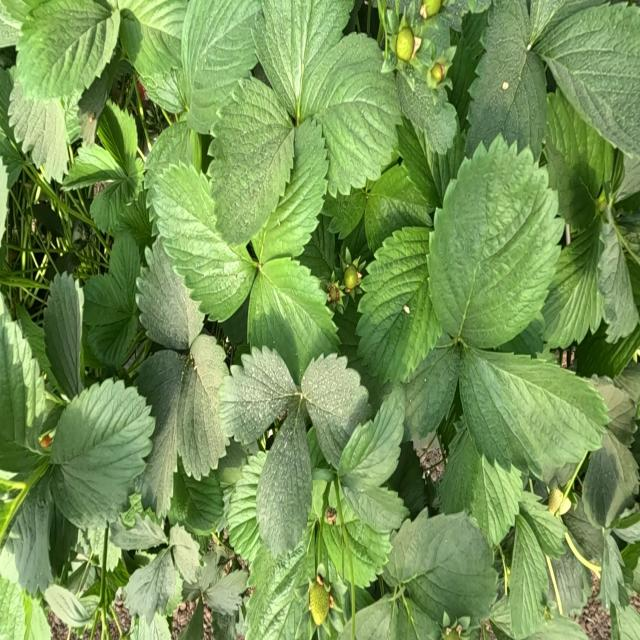Leaves: (431, 141, 563, 349), (460, 351, 608, 481), (149, 164, 255, 321), (535, 2, 639, 154), (52, 379, 153, 529), (209, 80, 294, 245), (315, 35, 402, 193), (358, 227, 440, 385), (466, 3, 547, 158), (388, 512, 497, 623), (545, 90, 626, 231), (248, 258, 339, 383), (256, 1, 351, 117), (16, 0, 119, 102), (181, 1, 260, 132), (254, 123, 327, 262), (542, 213, 608, 346), (326, 481, 407, 587), (257, 408, 311, 557), (302, 355, 370, 470), (219, 346, 298, 443), (246, 532, 315, 638), (138, 357, 183, 519), (123, 1, 188, 113), (137, 240, 203, 350), (178, 337, 228, 478), (338, 388, 405, 490), (0, 295, 43, 448), (403, 331, 460, 446), (333, 295, 389, 410), (399, 120, 464, 209), (364, 164, 431, 250), (8, 470, 54, 595), (9, 87, 67, 180), (582, 432, 639, 526), (83, 273, 138, 368), (397, 70, 457, 154), (44, 274, 83, 398), (448, 11, 487, 132), (508, 518, 547, 638), (472, 456, 522, 547), (601, 225, 639, 343), (489, 596, 589, 639), (124, 549, 182, 623), (440, 430, 482, 514), (576, 323, 640, 378), (341, 482, 407, 534), (174, 468, 223, 535), (387, 441, 427, 519), (145, 121, 200, 174), (520, 492, 564, 558), (99, 103, 139, 175), (592, 379, 635, 444), (115, 190, 154, 261), (62, 143, 123, 188), (354, 596, 416, 639), (552, 544, 589, 614), (300, 215, 335, 289), (563, 499, 602, 565), (90, 176, 134, 233), (108, 232, 139, 307), (323, 189, 367, 238), (391, 597, 441, 639), (110, 514, 167, 550), (203, 569, 247, 615), (44, 583, 87, 627), (601, 534, 626, 608), (170, 524, 200, 584), (0, 127, 25, 188), (0, 579, 25, 639), (129, 612, 171, 639), (610, 604, 640, 639), (180, 600, 203, 639), (338, 619, 353, 639), (420, 619, 434, 639)
Strawberries: (310, 583, 330, 625), (396, 28, 414, 60), (548, 489, 565, 515), (428, 62, 445, 86), (344, 267, 359, 290), (422, 1, 440, 18), (329, 286, 340, 302)
